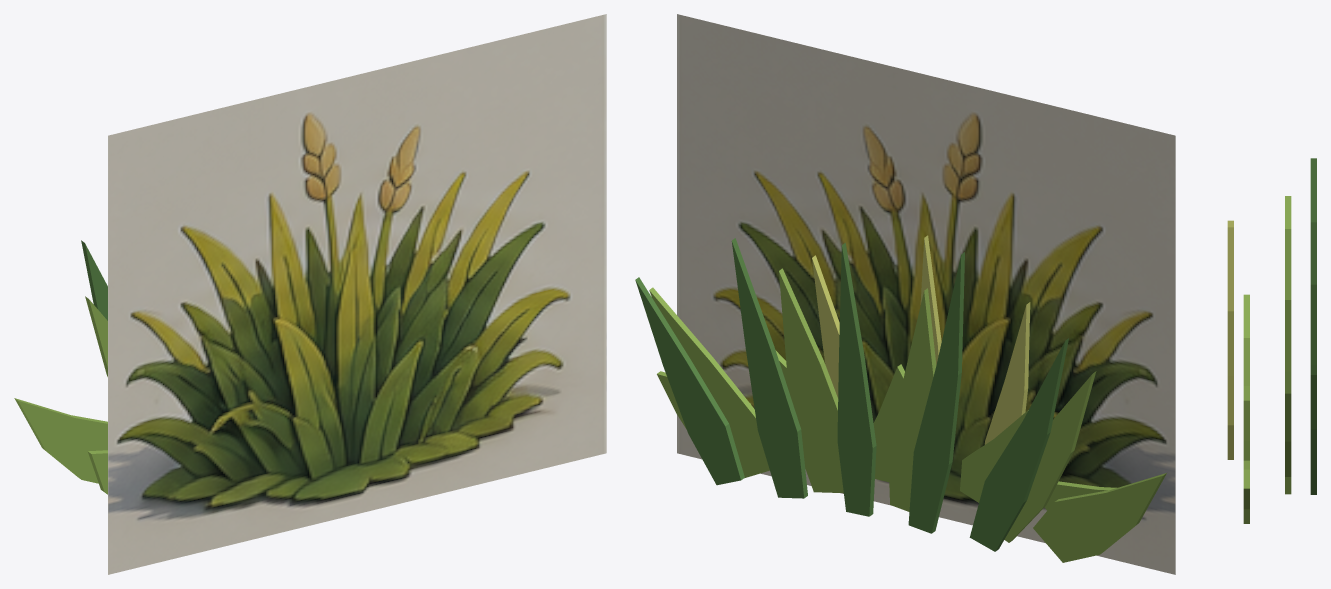
Rendered from GG-VEG-GRASS-COASTAL-TUFT-001_LOD_GAMEPLAY.glb.
3 renders of one model, left to right at view 1: azimuth 30°, elevation 25°; view 2: azimuth 150°, elevation 25°; view 3: azimuth 270°, elevation 25°, orthographic. The views are drawn at different scales.
Parts seen in each view (by area): view 1: GG_VEG_V3_REFERENCE_DERIVED_COLOUR_MASS_LAYER, GG_VEG_V3_MIDDLE_1, GG_VEG_V3_REAR_DARK_1; view 2: GG_VEG_V3_REFERENCE_DERIVED_COLOUR_MASS_LAYER, GG_VEG_V3_REAR_DARK_4, GG_VEG_V3_REAR_DARK_2, GG_VEG_V3_MIDDLE_4, GG_VEG_V3_REAR_DARK_3, GG_VEG_V3_REAR_DARK_1, GG_VEG_V3_REAR_DARK_5, GG_VEG_V3_MIDDLE_1, GG_VEG_V3_MIDDLE_3, GG_VEG_V3_MIDDLE_5, GG_VEG_V3_MIDDLE_2, GG_VEG_V3_HIGHLIGHT_1 (+5 smaller); view 3: GG_VEG_V3_HIGHLIGHT_3, GG_VEG_V3_REAR_DARK_5, GG_VEG_V3_MIDDLE_5, GG_VEG_V3_MIDDLE_4, GG_VEG_V3_REAR_DARK_4, GG_VEG_V3_HIGHLIGHT_2, GG_VEG_V3_MIDDLE_3, GG_VEG_V3_REAR_DARK_2, GG_VEG_V3_FRONT_5, GG_VEG_V3_FRONT_3, GG_VEG_V3_REAR_DARK_3, GG_VEG_V3_FRONT_4 (+2 smaller).
Part boxes in pixels (x1,y1,x2,y2): GG_VEG_V3_REFERENCE_DERIVED_COLOUR_MASS_LAYER: [108, 14, 606, 574]; GG_VEG_V3_MIDDLE_1: [14, 398, 107, 483]; GG_VEG_V3_REAR_DARK_1: [81, 240, 107, 320]; GG_VEG_V3_REFERENCE_DERIVED_COLOUR_MASS_LAYER: [677, 14, 1175, 574]; GG_VEG_V3_REAR_DARK_4: [731, 238, 807, 498]; GG_VEG_V3_REAR_DARK_2: [908, 252, 964, 533]; GG_VEG_V3_MIDDLE_4: [779, 268, 843, 493]; GG_VEG_V3_REAR_DARK_3: [837, 242, 876, 516]; GG_VEG_V3_REAR_DARK_1: [969, 338, 1068, 551]; GG_VEG_V3_REAR_DARK_5: [635, 277, 744, 485]; GG_VEG_V3_MIDDLE_1: [1033, 473, 1166, 562]; GG_VEG_V3_MIDDLE_3: [888, 288, 936, 511]; GG_VEG_V3_MIDDLE_5: [649, 287, 769, 478]; GG_VEG_V3_MIDDLE_2: [1004, 371, 1096, 542]; GG_VEG_V3_HIGHLIGHT_1: [984, 302, 1030, 444]; GG_VEG_V3_HIGHLIGHT_3: [1227, 311, 1233, 459]; GG_VEG_V3_REAR_DARK_5: [1310, 375, 1316, 494]; GG_VEG_V3_MIDDLE_5: [1285, 393, 1291, 494]; GG_VEG_V3_MIDDLE_4: [1285, 300, 1291, 393]; GG_VEG_V3_REAR_DARK_4: [1310, 284, 1316, 374]; GG_VEG_V3_HIGHLIGHT_2: [1227, 227, 1233, 311]; GG_VEG_V3_MIDDLE_3: [1285, 229, 1291, 299]; GG_VEG_V3_REAR_DARK_2: [1310, 158, 1316, 222]; GG_VEG_V3_FRONT_5: [1243, 460, 1249, 523]; GG_VEG_V3_FRONT_3: [1243, 338, 1249, 400]; GG_VEG_V3_REAR_DARK_3: [1310, 222, 1316, 284]; GG_VEG_V3_FRONT_4: [1243, 400, 1249, 460].
Bounding box in the file's own units: 1.3 × 1.01 × 0.286.
4 materials, 1 textured.
